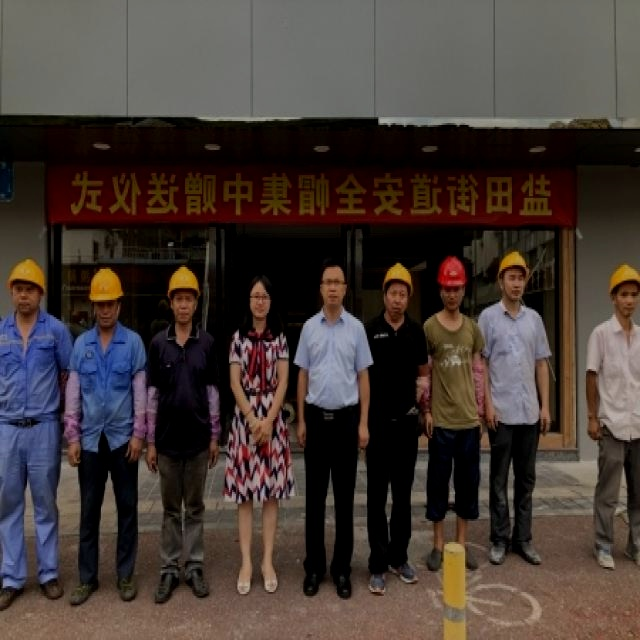Con_Casco: (165, 265, 202, 324)
Sin_Casco_Mascarrilla: (319, 260, 350, 312)
Sin_Chaleco: (147, 321, 217, 441), (297, 312, 368, 412), (227, 317, 291, 421)
